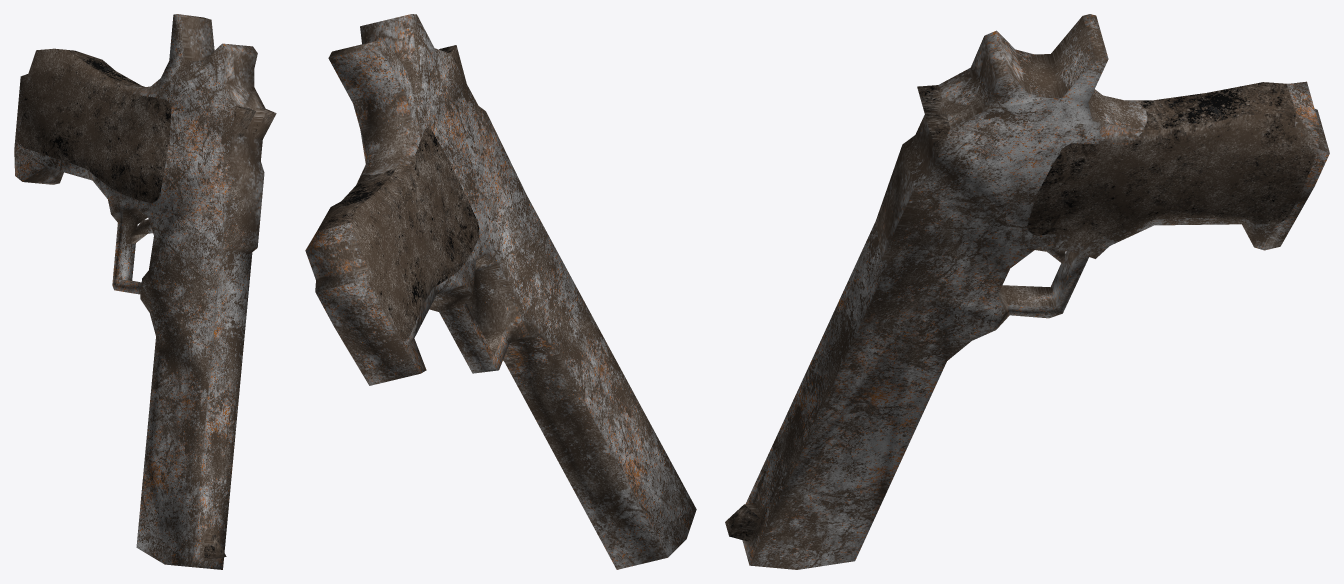
The model's file is Anim_disparar_pistola_objetos.0031.obj.
3 views of the same model, side by side, from view 1: azimuth 30°, elevation 25°; view 2: azimuth 150°, elevation 25°; view 3: azimuth 270°, elevation 25° (orthographic). The views are drawn at different scales.
Parts seen in each view (by area): view 1: Pistola1; view 2: Pistola1; view 3: Pistola1.
Part boxes in pixels (x1,y1,x2,y2): Pistola1: [14, 14, 276, 569]; Pistola1: [305, 14, 696, 569]; Pistola1: [725, 14, 1329, 569].
Size of the model in its own units: 0.6386 by 1.55 by 1.38.
